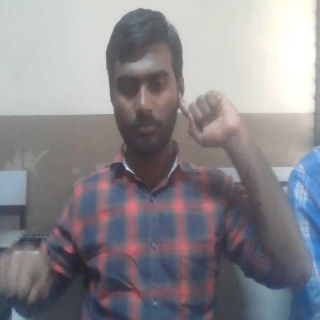Deaf: (178, 90, 252, 153)
Face: (103, 7, 187, 161)
